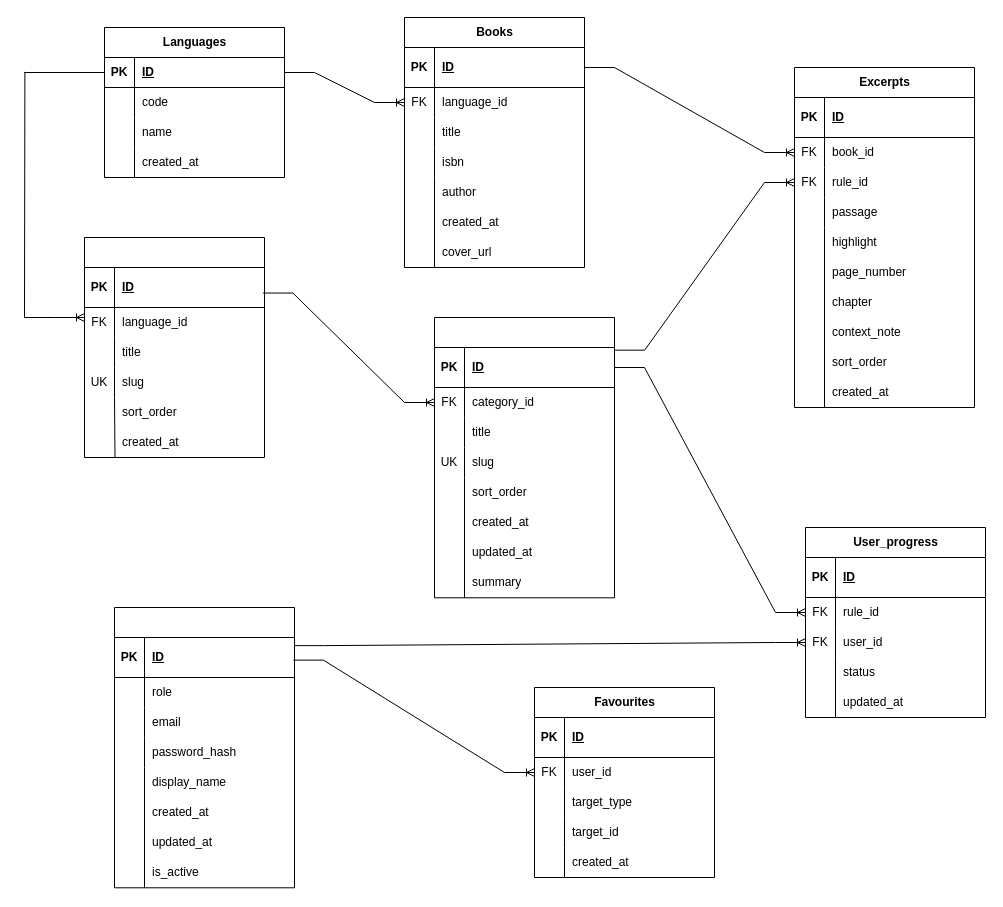
The diagram is 1003 pixels wide and 907 high, and some of its shapes have lost their labels. Each missing label, with the box of its shape:
Categories: (84, 236, 264, 458)
Rules: (434, 316, 614, 598)
Users: (114, 606, 294, 888)
